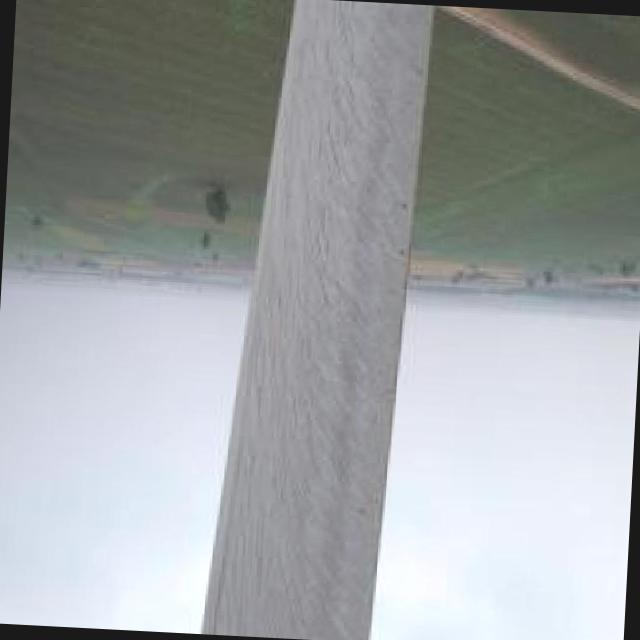Dirt: (205, 1, 446, 640)
Pin Hole: (394, 190, 410, 259)
